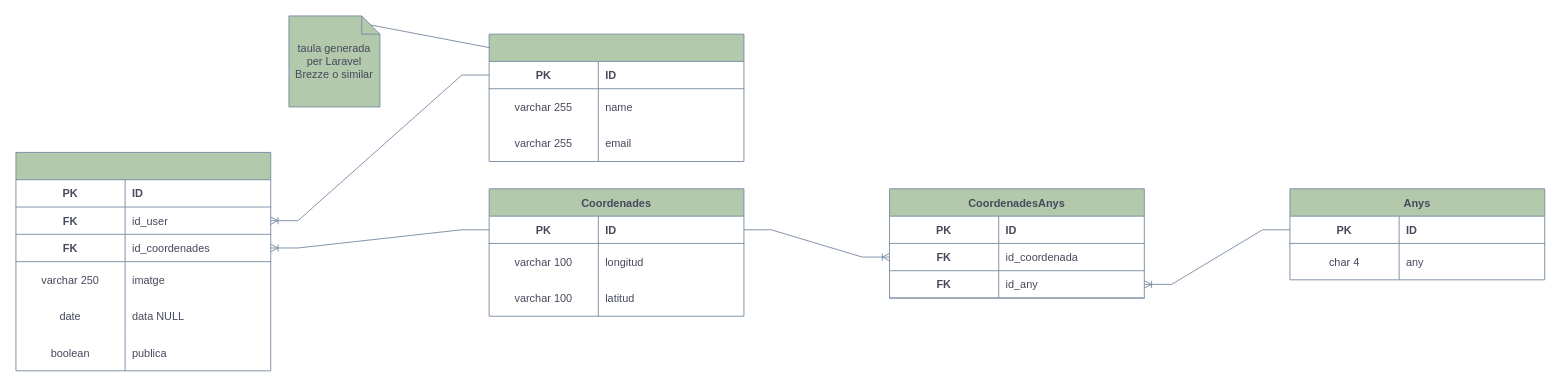
The diagram is 1561 pixels wide and 387 high, and some of its shapes have lost their labels. Here are the shapes that lost their labels. From the top down, the box of each, then its label:
(488, 33, 744, 162): Users
(15, 152, 271, 371): Imatges
